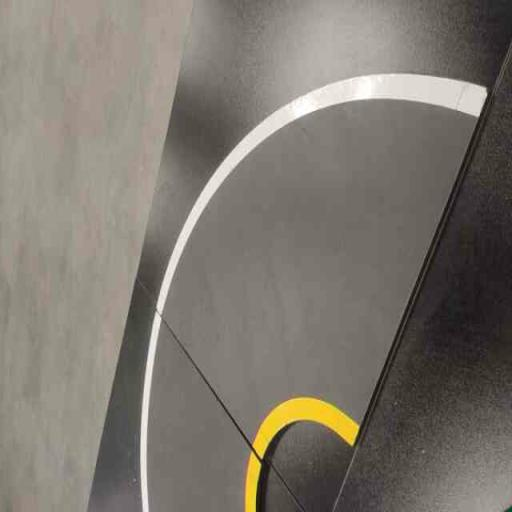left: (150, 7, 505, 460)
